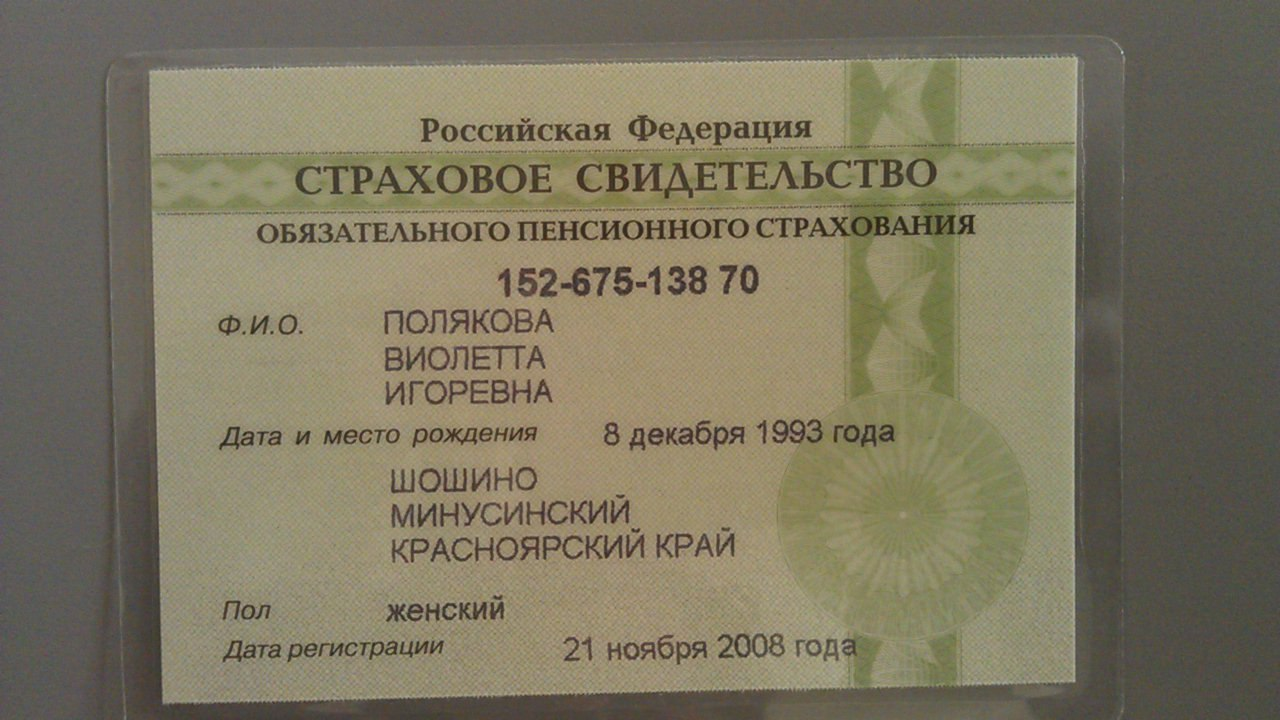text: (381, 453, 736, 567), (482, 257, 778, 300), (550, 632, 866, 666), (602, 416, 897, 452), (373, 336, 555, 374), (372, 305, 560, 339), (372, 374, 557, 407), (375, 594, 526, 632)
